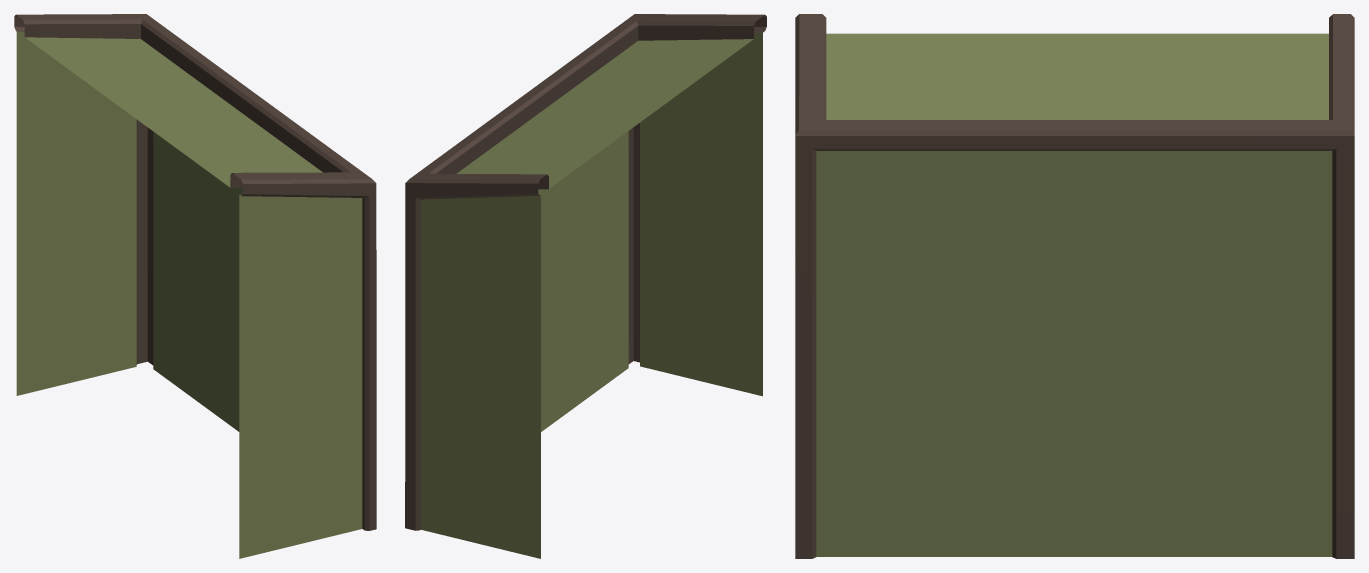
File: Anexo_casa.fbx
3 views of the same model, side by side, from view 1: azimuth 30°, elevation 25°; view 2: azimuth 150°, elevation 25°; view 3: azimuth 270°, elevation 25° (orthographic). The views are drawn at different scales.
Visible parts, largest first — view 1: polySurface35; view 2: polySurface35; view 3: polySurface35.
Boxes of the visible parts, x1=… form: polySurface35: x1=14, y1=14, x2=376, y2=558; polySurface35: x1=405, y1=14, x2=766, y2=558; polySurface35: x1=795, y1=14, x2=1354, y2=558.
Size of the model in its own units: 174 by 473 by 515.
